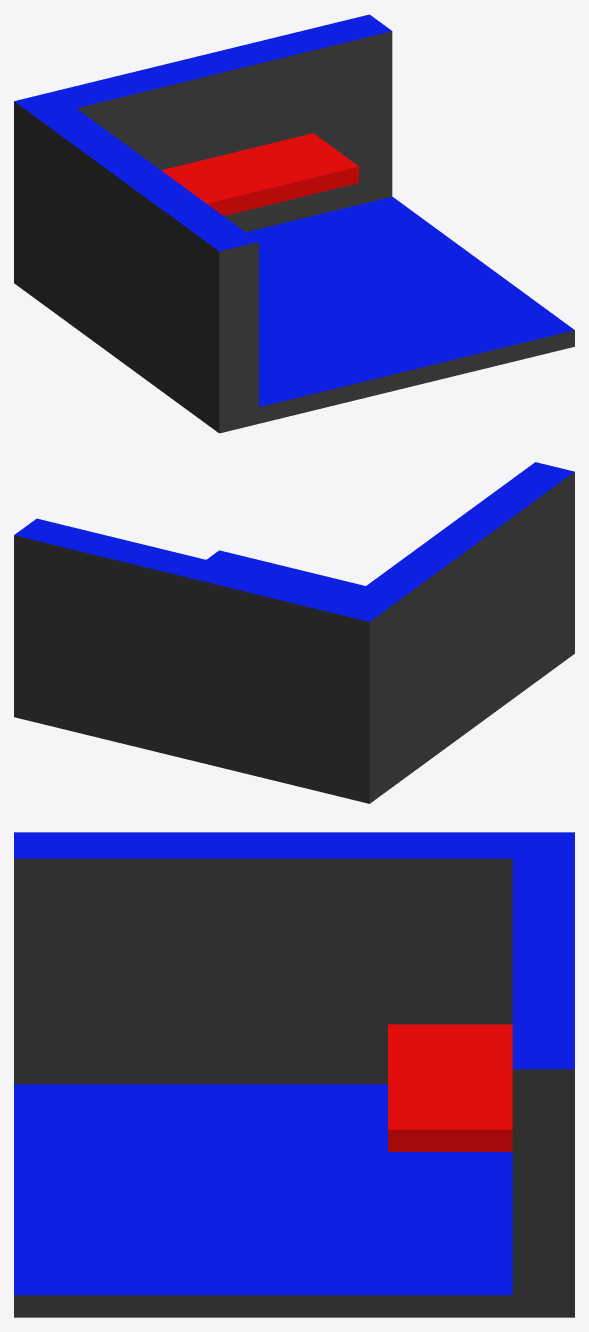
3 renders of one model, top to bottom at view 1: azimuth 30°, elevation 25°; view 2: azimuth 150°, elevation 25°; view 3: azimuth 270°, elevation 25°, orthographic. The views are drawn at different scales.
Parts seen in each view (by area): view 1: Cube; view 2: Cube; view 3: Cube.
Boxes of the visible parts, bbox=[...] form: Cube: bbox=[14, 14, 574, 433]; Cube: bbox=[14, 462, 574, 803]; Cube: bbox=[14, 832, 574, 1317].
Size of the model in its own units: 45 by 22 by 45.
